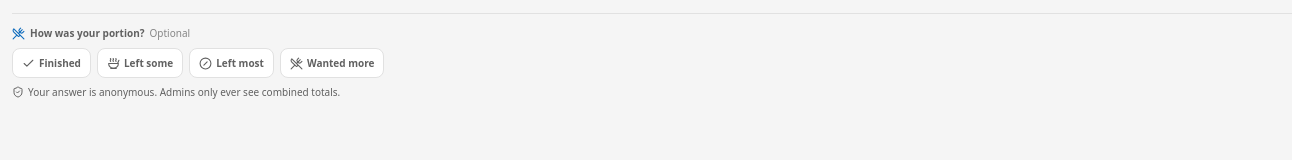
Test: submitting a response › marks the chosen option and confirms once the server accepts
Click the button "Finished" at (52, 63), box [12, 48, 91, 78]
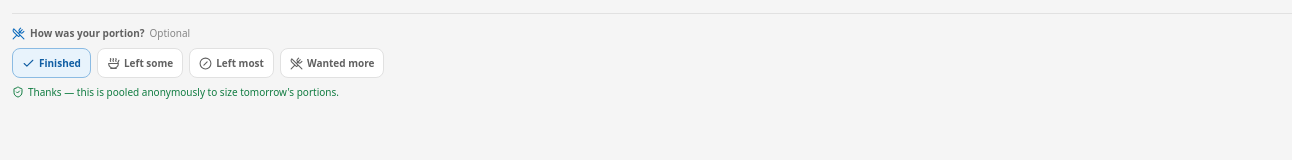
Check: the text "pooled anonymously" is shown, box [28, 85, 339, 99]
